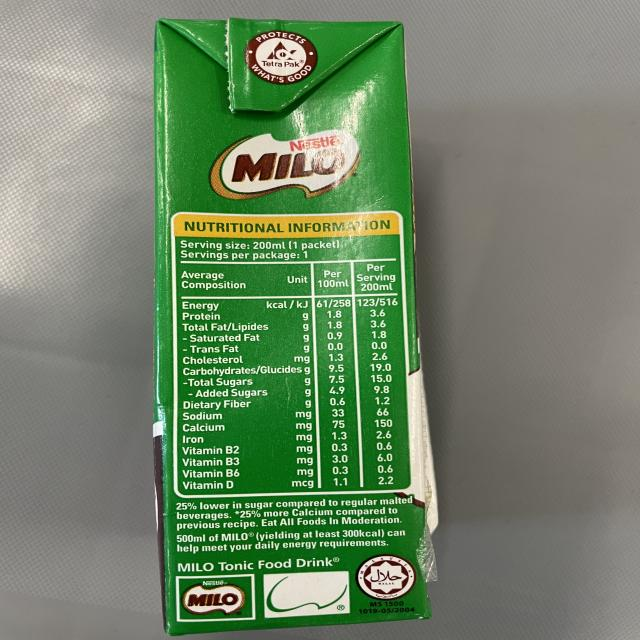object_name: (154, 17, 429, 622)
